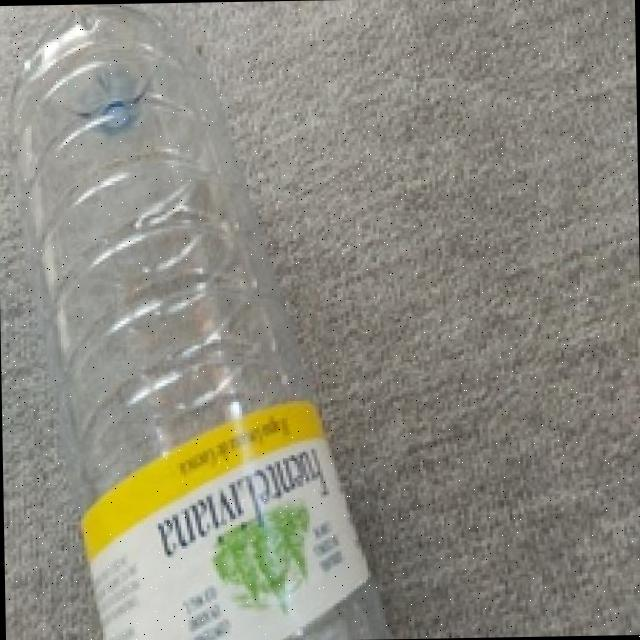bottle: (5, 4, 382, 640)
label: (77, 479, 375, 640)
